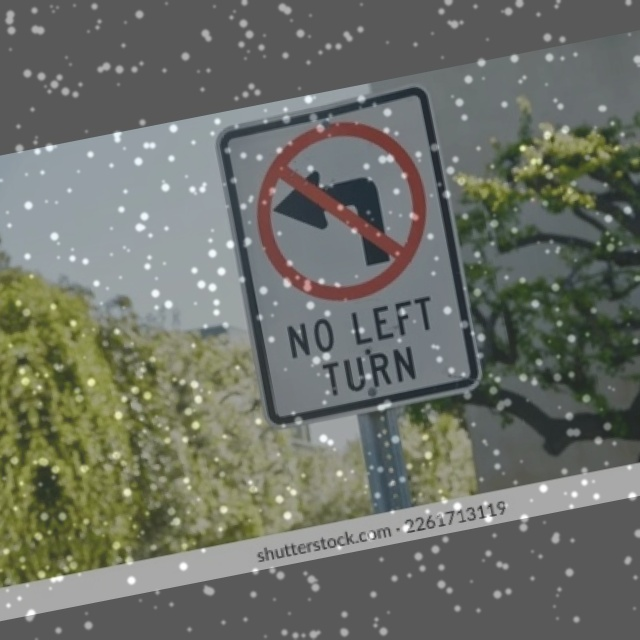Left_Turn_Prohibited: (233, 105, 448, 321)
